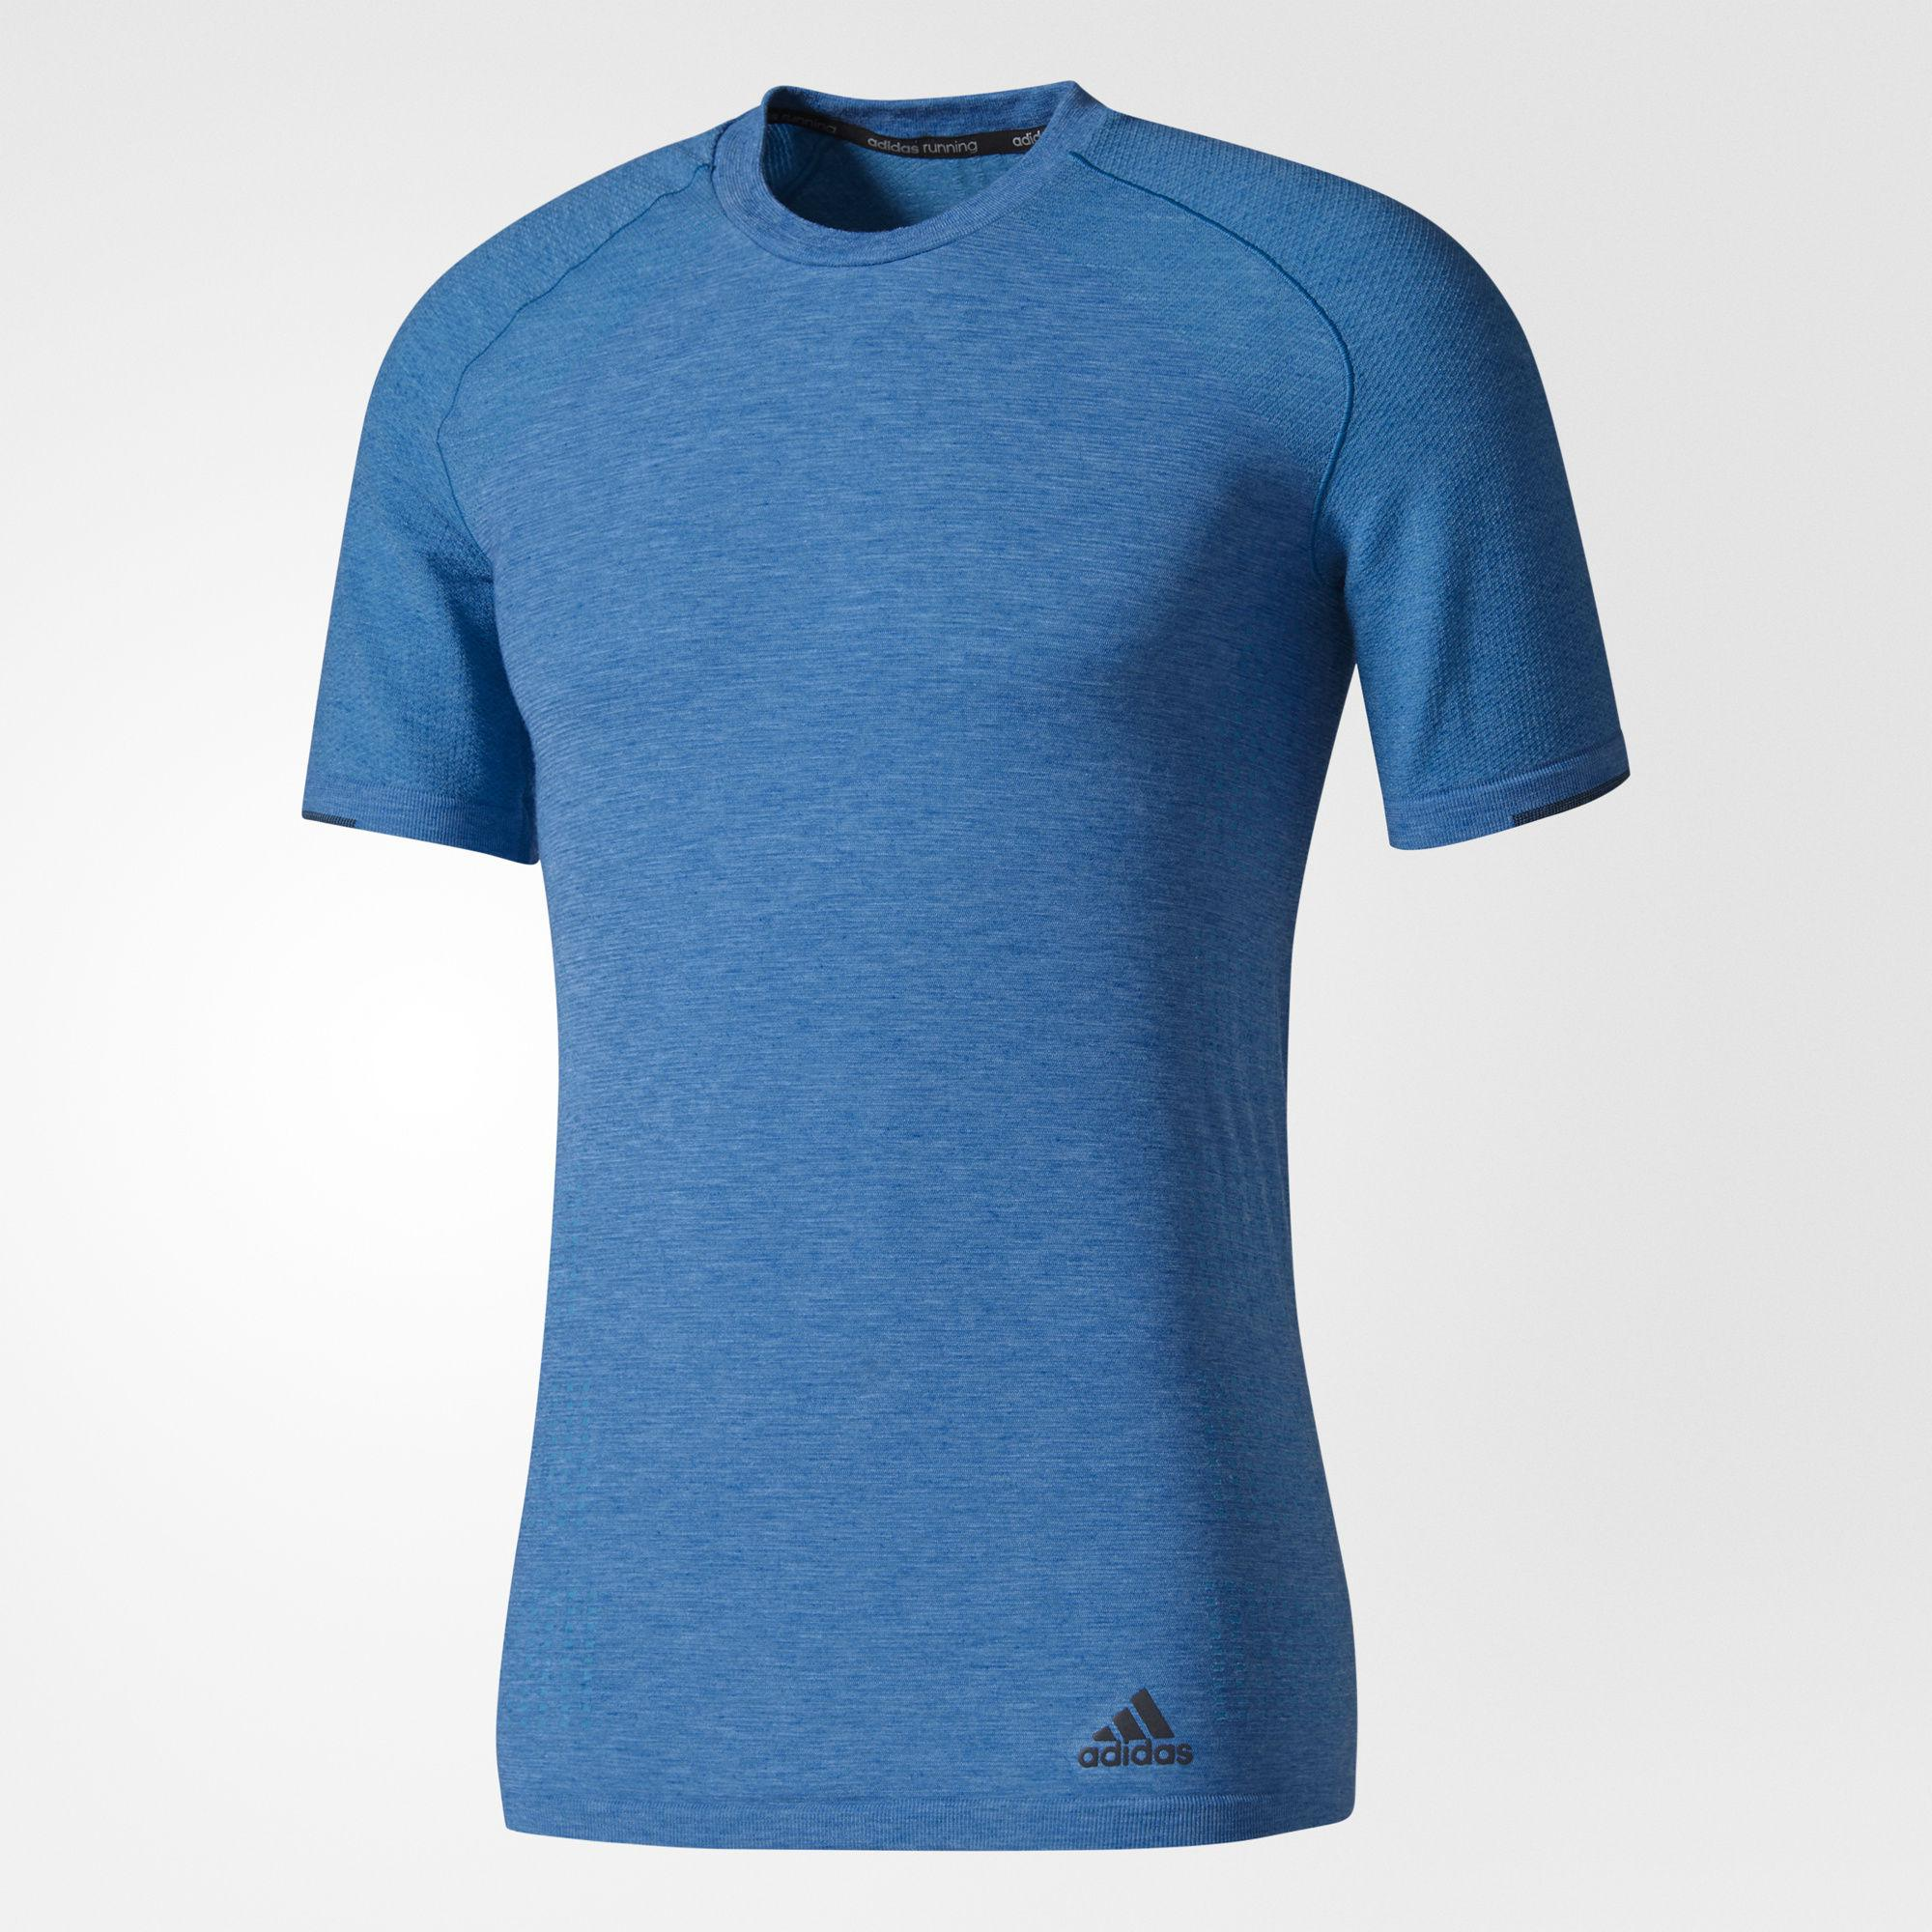teeshirt: (149, 60, 1635, 1826)
